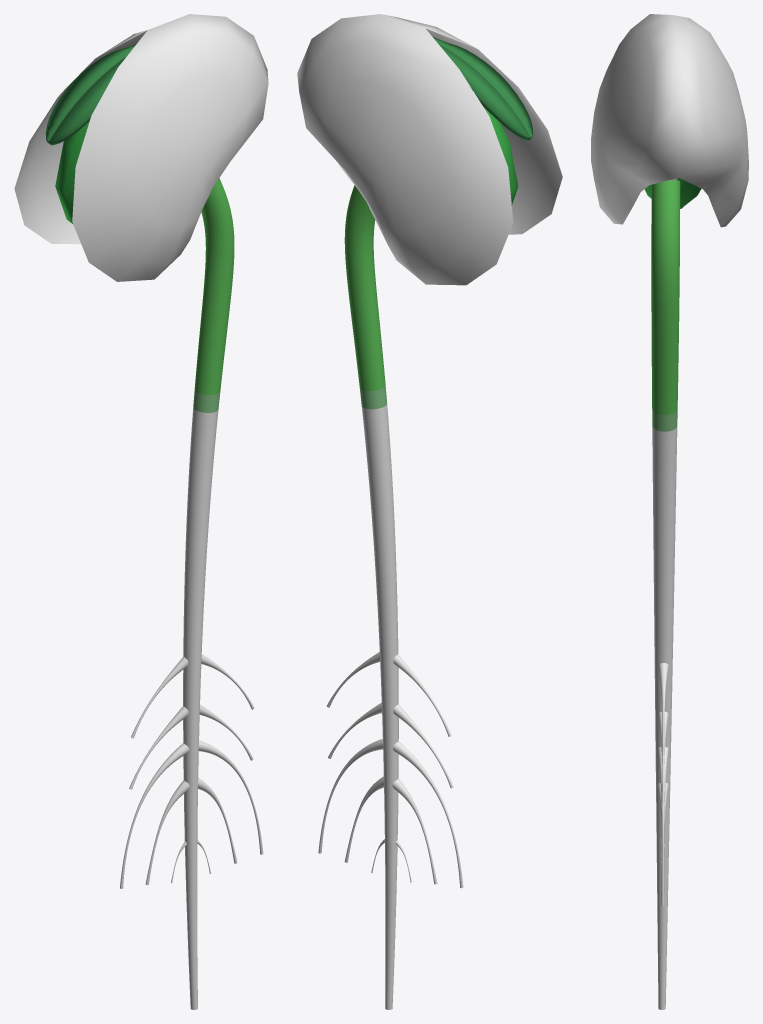
Rendered from Frijol_3.glb.
3 views of the same model, side by side, from view 1: azimuth 30°, elevation 25°; view 2: azimuth 150°, elevation 25°; view 3: azimuth 270°, elevation 25° (orthographic). The views are drawn at different scales.
Parts seen in each view (by area): view 1: Frijol_caras, raiz_principal.002, Hoja_nace, Frijol_etapa_3.002, raiz_secundaria_3.002, raiz_secundaria_4.002, raiz_secundaria_2.002, raiz_secundaria_1.002; view 2: Frijol_caras, raiz_principal.002, Hoja_nace, raiz_secundaria_3.002, raiz_secundaria_4.002, raiz_secundaria_2.002, raiz_secundaria_1.002, Frijol_etapa_3.002; view 3: Frijol_caras, raiz_principal.002, raiz_secundaria_3.002, Frijol_etapa_3.002, raiz_secundaria_1.002, raiz_secundaria_2.002.
Boxes of the visible parts, x1,y1,x2,y2 form: Frijol_caras: (14, 14, 268, 281); raiz_principal.002: (183, 178, 234, 1009); Hoja_nace: (45, 44, 136, 145); Frijol_etapa_3.002: (55, 121, 89, 223); raiz_secundaria_3.002: (120, 740, 263, 888); raiz_secundaria_4.002: (145, 778, 237, 885); raiz_secundaria_2.002: (129, 704, 253, 789); raiz_secundaria_1.002: (131, 654, 254, 738); Frijol_caras: (297, 14, 562, 285); raiz_principal.002: (344, 185, 398, 1009); Hoja_nace: (433, 37, 532, 141); raiz_secundaria_3.002: (318, 738, 463, 888); raiz_secundaria_4.002: (344, 776, 437, 884); raiz_secundaria_2.002: (328, 703, 453, 788); raiz_secundaria_1.002: (327, 652, 451, 736); Frijol_etapa_3.002: (483, 107, 518, 205); Frijol_caras: (591, 14, 748, 227); raiz_principal.002: (651, 180, 680, 1009); raiz_secundaria_3.002: (657, 747, 668, 905); Frijol_etapa_3.002: (644, 177, 701, 208); raiz_secundaria_1.002: (658, 663, 668, 755); raiz_secundaria_2.002: (658, 711, 668, 804).
Size of the model in its own units: 0.545 by 2.2 by 0.3226.
